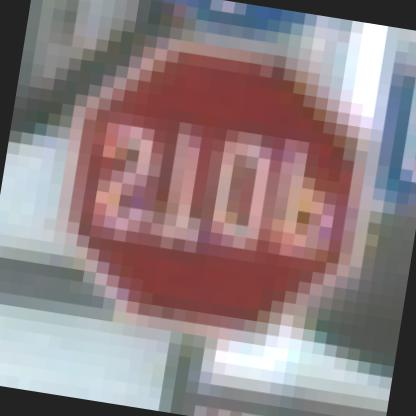stop: (23, 6, 396, 378)
